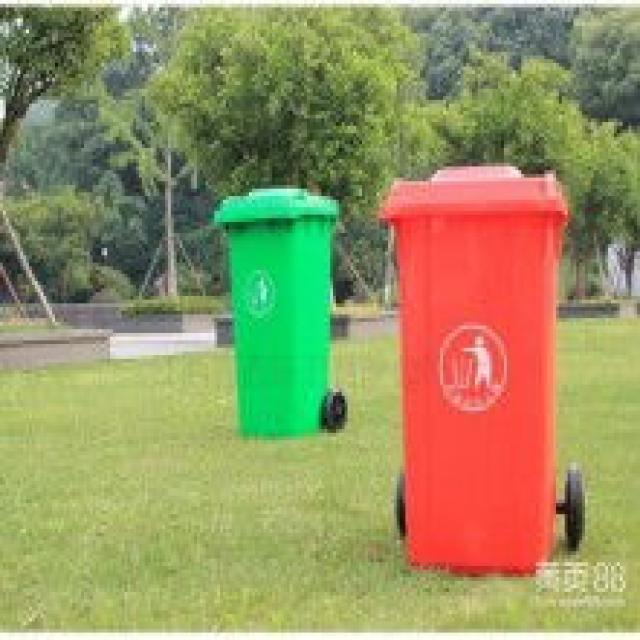garbage_bin: (377, 162, 568, 570), (208, 185, 336, 433)
